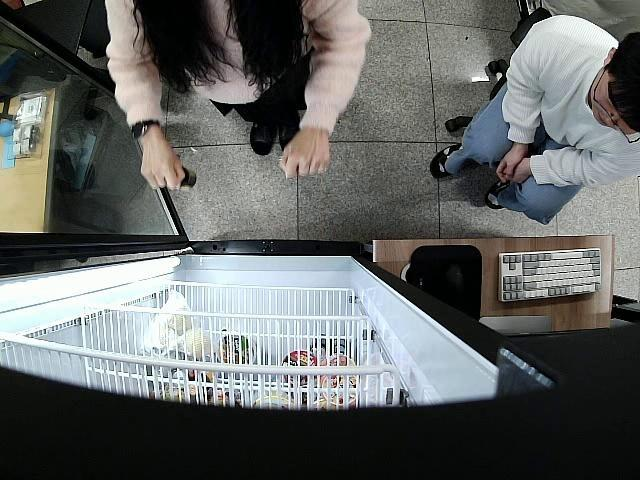17_vita500: (178, 166, 198, 192)
